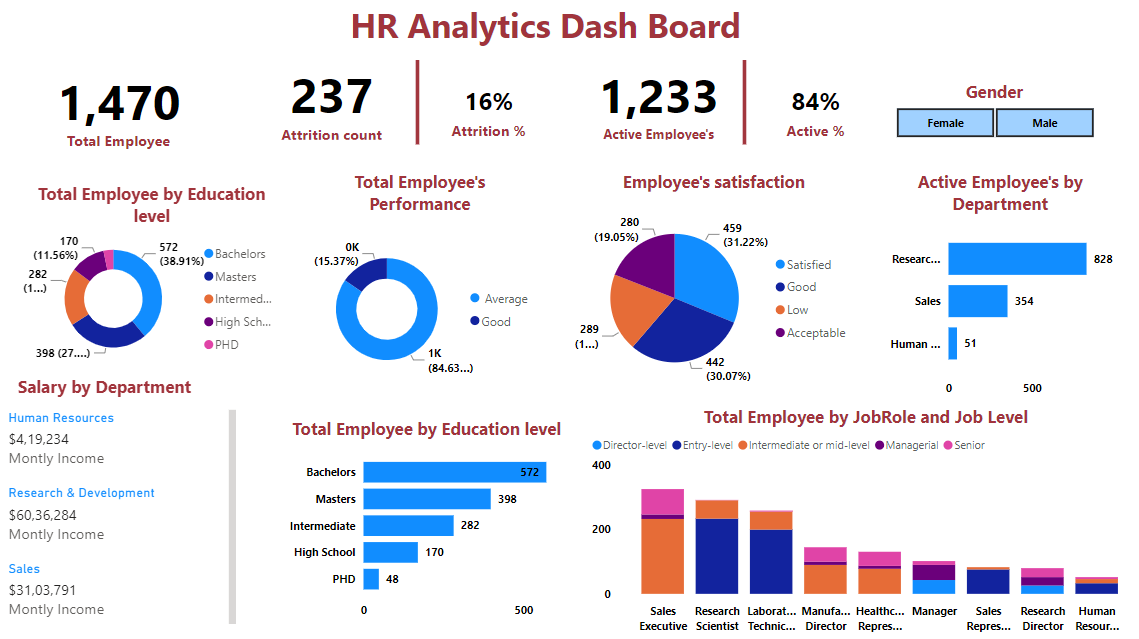

Layout of this report page (visuals, bound fields, positions):
{"tool":"powerbi","page":{"name":"Page 1","canvas":[1280,720],"ordinal":0},"visuals":[{"type":"card","fields":{"Values":["Measures (2).Total Employee"]},"box":[32.4,76,215.2,108.4],"z":0},{"type":"card","fields":{"Values":["Measures (2).Attrition count"]},"box":[296.1,76,158.6,93.8],"z":0,"group":"g1"},{"type":"card","fields":{"Values":["Measures (2).Active Employee's"]},"box":[660.1,76,158.6,93.8],"z":0,"group":"g2"},{"type":"group","id":"g1","title":"Group 1","box":[296.1,76,318.7,93.8],"z":1000},{"type":"card","fields":{"Values":["Measures (2).Attrition %"]},"box":[483.8,93.8,131.1,76],"z":1000,"group":"g1"},{"type":"card","fields":{"Values":["Measures (2).Active %"]},"box":[847.8,93.8,131.1,76],"z":1000,"group":"g2"},{"type":"shape","box":[443.3,76,56.6,93.8],"z":2000,"group":"g1"},{"type":"group","id":"g2","title":"Group 1","box":[660.1,76,318.7,93.8],"z":2000},{"type":"shape","box":[807.3,76,56.6,93.8],"z":2000,"group":"g2"},{"type":"pieChart","title":"Employee''s satisfaction ","fields":{"Category":["HR Employee Project.Satisfaction Status"],"Y":["Measures (2).Total Employee"]},"box":[640.7,199,322,260.5],"z":3000},{"type":"clusteredBarChart","fields":{"Category":["HR Employee Project.Department"],"Y":["Measures (2).Active Employee's"]},"box":[978.9,199,281.5,260.5],"z":4000},{"type":"columnChart","fields":{"Category":["HR Employee Project.JobRole"],"Y":["Measures (2).Total Employee"],"Series":["HR Employee Project.Job Level"]},"box":[660.1,459.5,619.7,260.5],"z":5000},{"type":"barChart","fields":{"Category":["HR Employee Project.EducationField","HR Employee Project.Education level"],"Y":["Measures (2).Total Employee"]},"box":[323.6,474.1,317.1,233],"z":6000},{"type":"donutChart","title":"Total Employee''s Performance","fields":{"Category":["HR Employee Project.Employee's Performantion"],"Y":["Measures (2).Total Employee"]},"box":[339.8,199,268.6,260.5],"z":7000},{"type":"multiRowCard","fields":{"Values":["HR Employee Project.Department","Measures (2).Montly Income"]},"box":[0,459.5,275.1,260.5],"z":8000},{"type":"textbox","box":[0,422.3,247.6,37.2],"z":9000},{"type":"donutChart","fields":{"Y":["Measures (2).Total Employee"],"Category":["HR Employee Project.Education level"]},"box":[27.5,212,296.1,210.3],"z":10000},{"type":"slicer","title":"Gender","fields":{"Values":["HR Employee Project.Gender"]},"box":[978.9,98.7,268.6,71.2],"z":10001},{"type":"textbox","box":[247.6,6.5,731.3,69.6],"z":10002}]}

Visuals, with their boxes in screenshot pixels (x1, y1, x2, y2), scaled from the page's 1280x720 canvas onto the 1139x639 screenshot:
card - Measures (2).Total Employee: [x1=29, y1=67, x2=220, y2=164]
card - Measures (2).Attrition count: [x1=263, y1=67, x2=405, y2=151]
card - Measures (2).Active Employee's: [x1=587, y1=67, x2=729, y2=151]
"Group 1" group: [x1=263, y1=67, x2=547, y2=151]
card - Measures (2).Attrition %: [x1=431, y1=83, x2=547, y2=151]
card - Measures (2).Active %: [x1=754, y1=83, x2=871, y2=151]
shape: [x1=394, y1=67, x2=445, y2=151]
"Group 1" group: [x1=587, y1=67, x2=871, y2=151]
shape: [x1=718, y1=67, x2=769, y2=151]
"Employee''s satisfaction " pieChart: [x1=570, y1=177, x2=857, y2=408]
clusteredBarChart - HR Employee Project.Department x Measures (2).Active Employee's: [x1=871, y1=177, x2=1122, y2=408]
columnChart - HR Employee Project.JobRole x Measures (2).Total Employee: [x1=587, y1=408, x2=1138, y2=638]
barChart - HR Employee Project.EducationField x HR Employee Project.Education level: [x1=288, y1=421, x2=570, y2=628]
"Total Employee''s Performance" donutChart: [x1=302, y1=177, x2=541, y2=408]
multiRowCard - HR Employee Project.Department x Measures (2).Montly Income: [x1=0, y1=408, x2=245, y2=638]
textbox: [x1=0, y1=375, x2=220, y2=408]
donutChart - Measures (2).Total Employee x HR Employee Project.Education level: [x1=24, y1=188, x2=288, y2=375]
"Gender" slicer: [x1=871, y1=88, x2=1110, y2=151]
textbox: [x1=220, y1=6, x2=871, y2=68]
